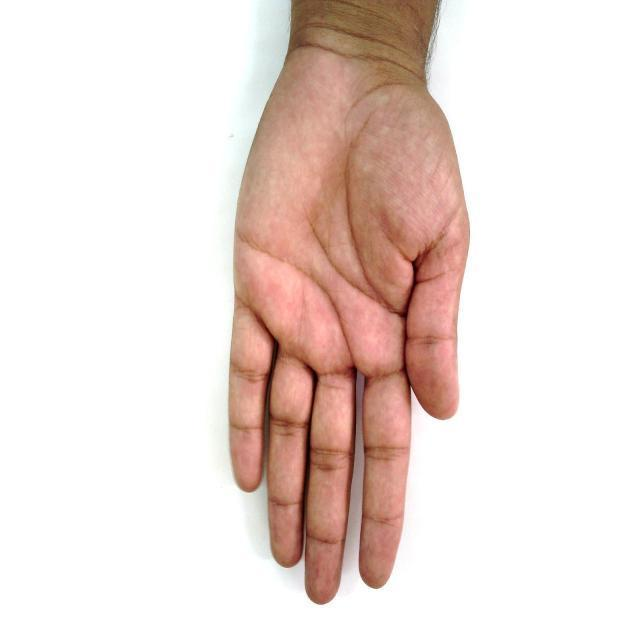hand: (227, 42, 470, 604)
